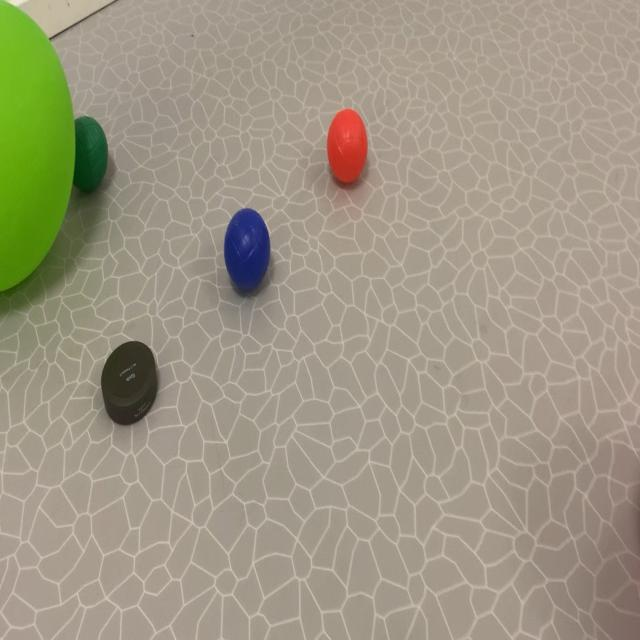7: (285, 71, 380, 231)
green ball: (205, 145, 274, 343)
red ball: (75, 98, 137, 243)
